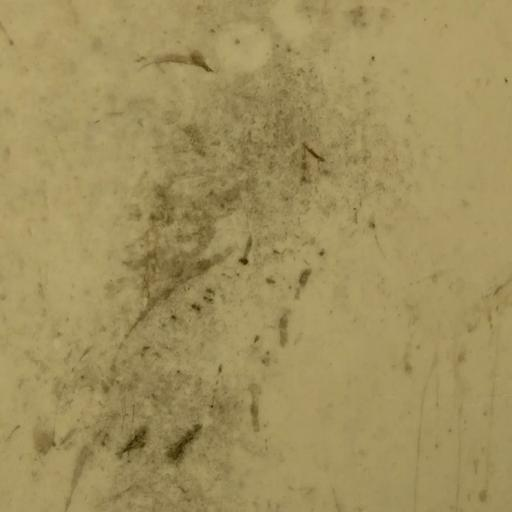stain: (39, 6, 389, 512)
